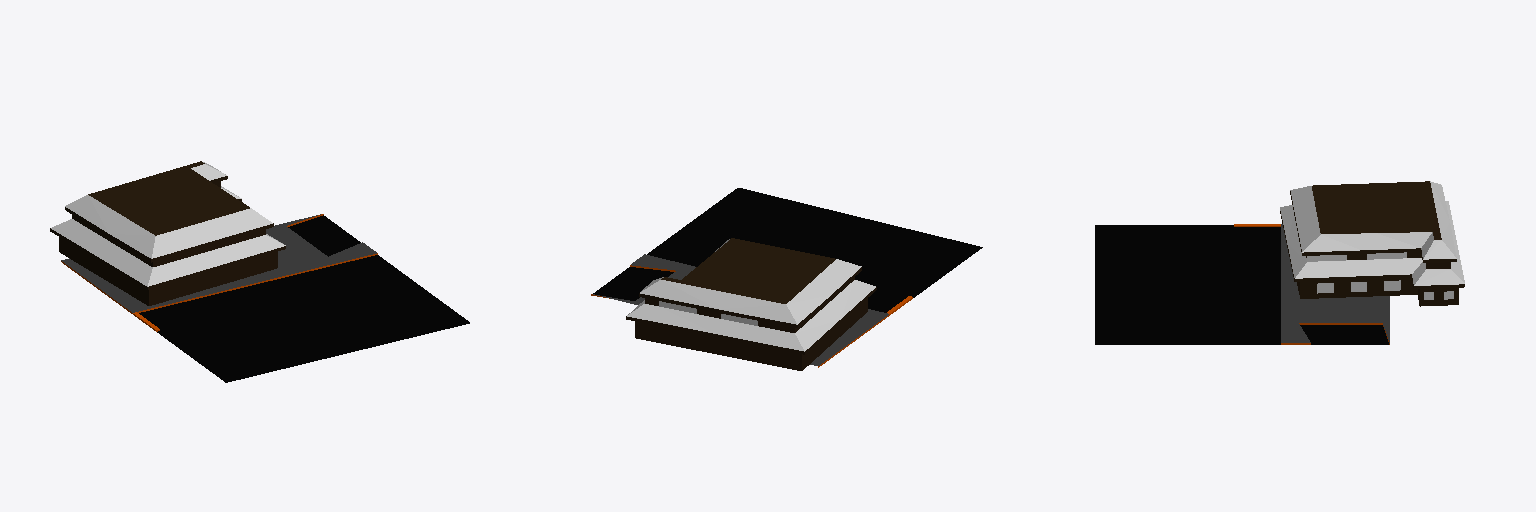
File: 09_phut_n.obj
3 views of the same model, side by side, from view 1: azimuth 30°, elevation 25°; view 2: azimuth 150°, elevation 25°; view 3: azimuth 270°, elevation 25° (orthographic).
Size of the model in its own units: 16 by 3.64 by 20.96.